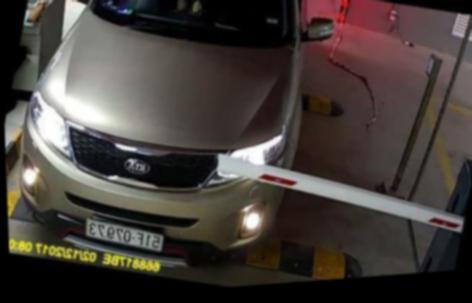License_Plate: (83, 207, 174, 259)
